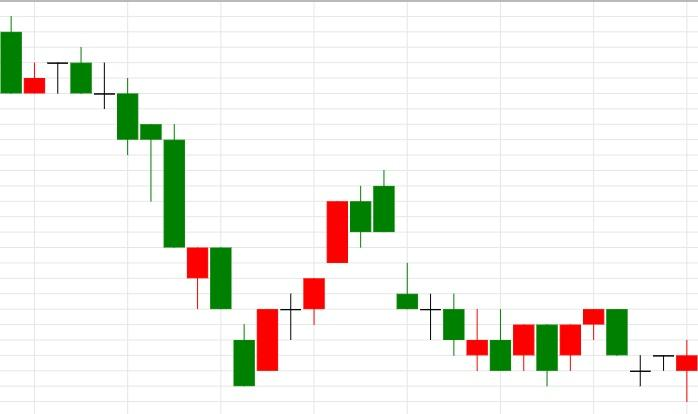bearish_engulfing_fall: (536, 309, 629, 386)
